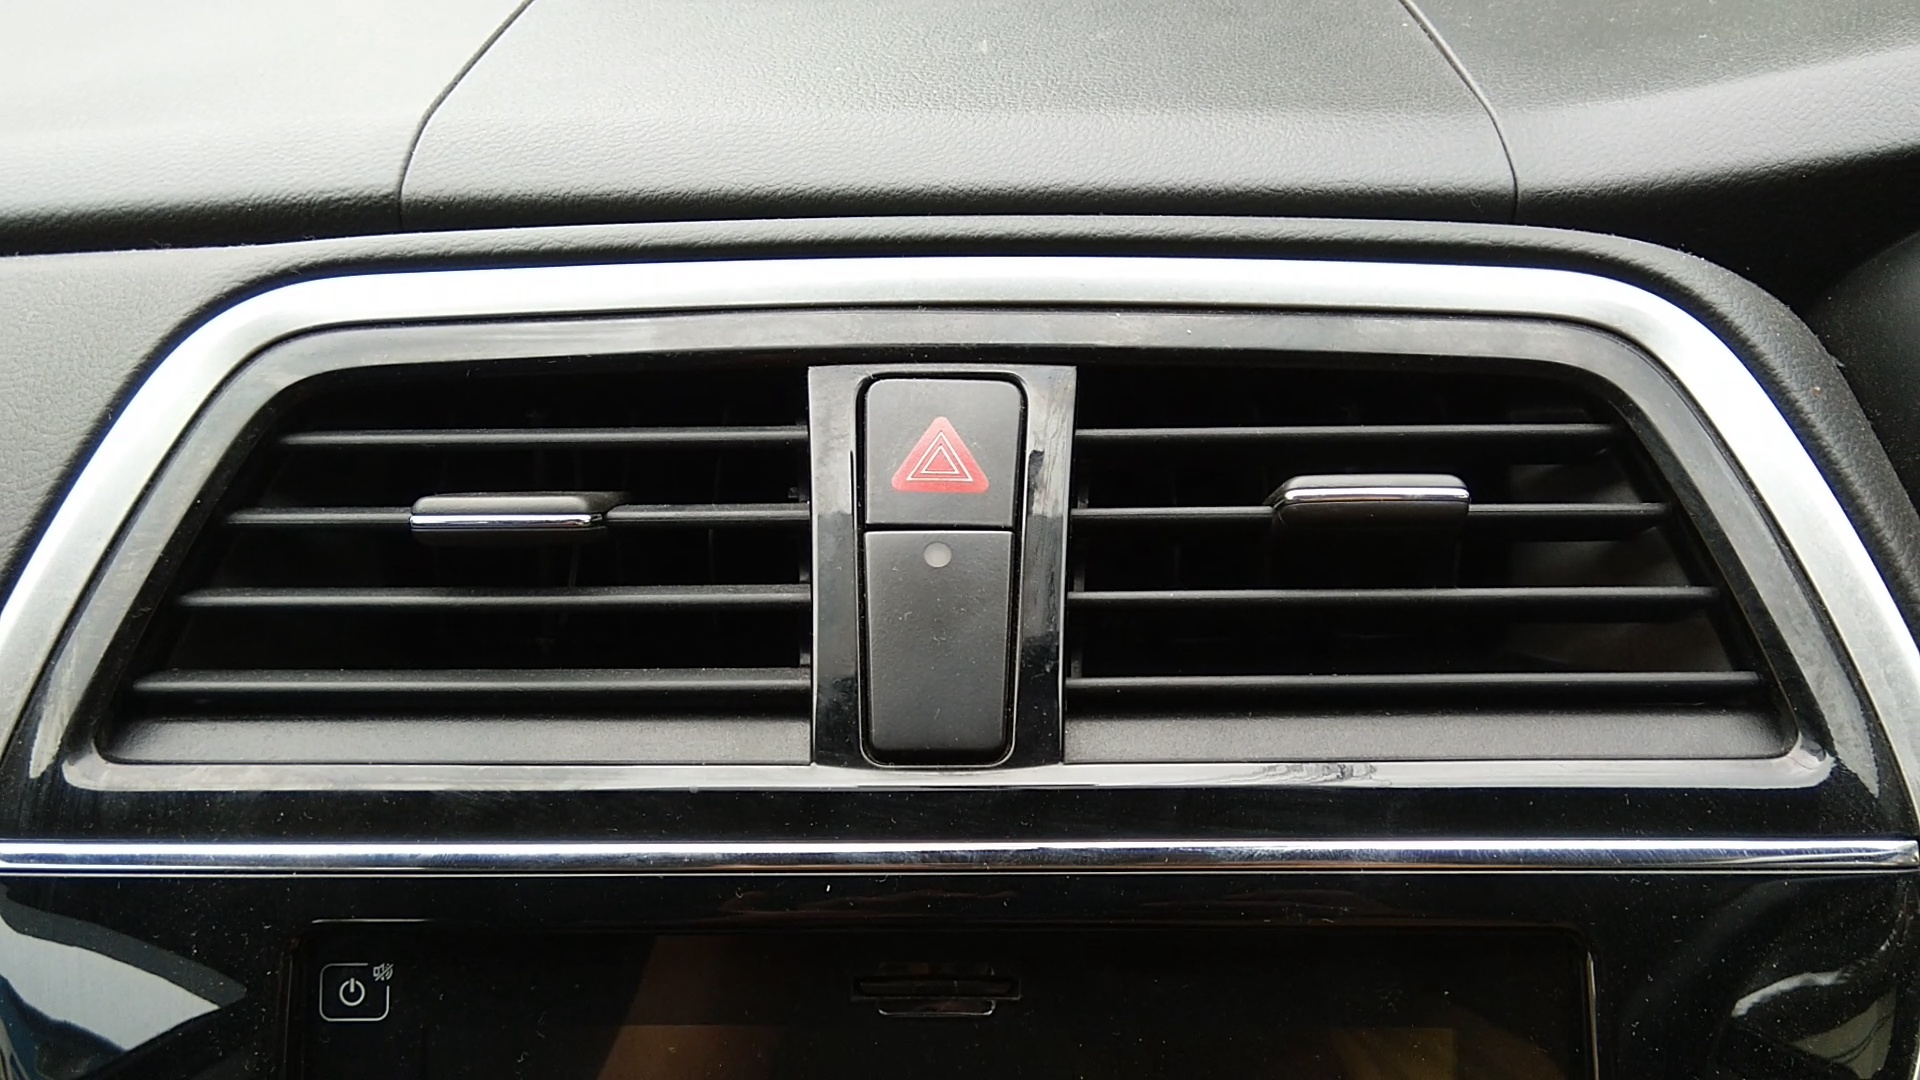parking_button: (880, 386, 1009, 517)
